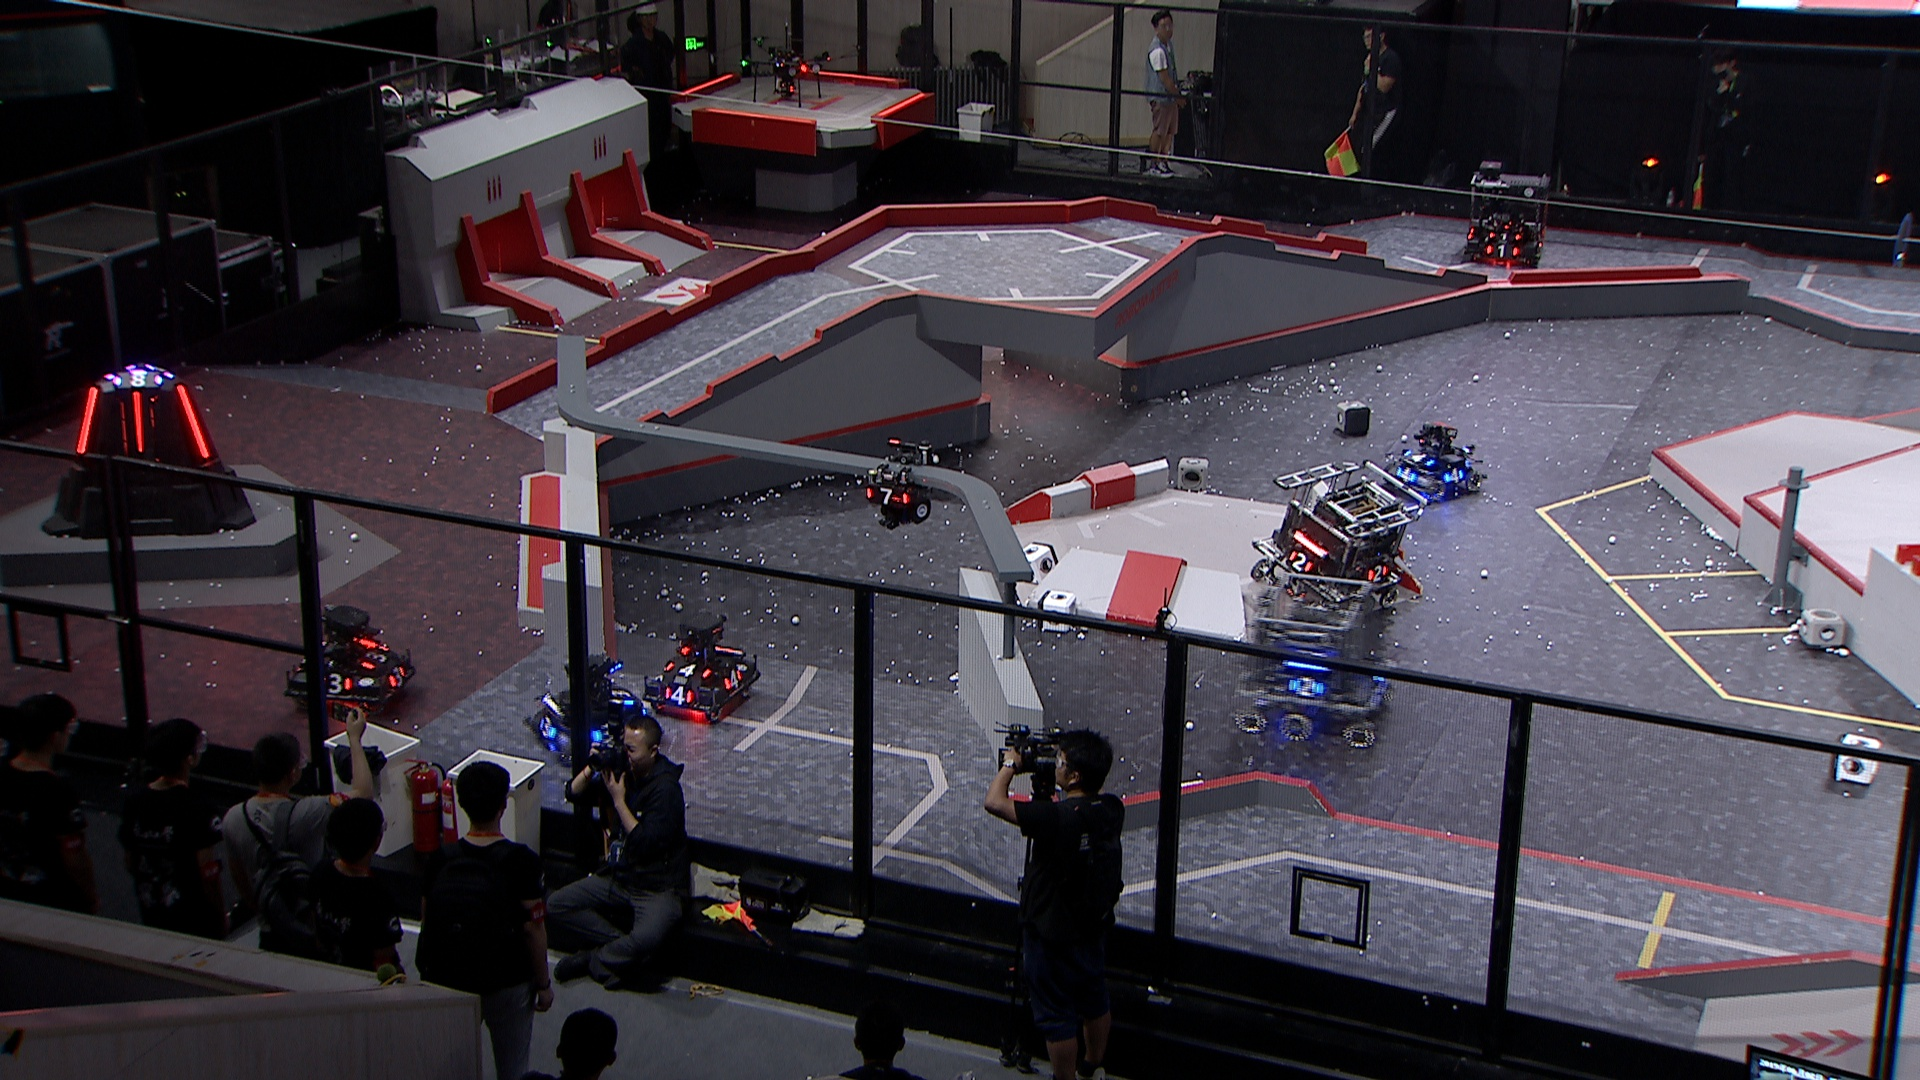armor: (174, 382, 212, 462), (76, 385, 98, 452), (661, 659, 712, 680), (129, 390, 145, 454), (865, 487, 913, 508), (357, 642, 392, 670), (1286, 675, 1325, 698), (323, 671, 356, 698), (1399, 448, 1437, 469), (1283, 549, 1315, 574), (589, 723, 618, 746), (719, 665, 745, 690), (662, 684, 695, 704), (609, 684, 638, 707), (1365, 562, 1393, 584), (1484, 243, 1520, 257), (538, 713, 558, 740), (1486, 229, 1523, 243), (1395, 465, 1419, 485), (386, 665, 406, 687), (1443, 467, 1466, 485)
base: (44, 361, 261, 538)
car: (1233, 568, 1395, 746), (1244, 462, 1425, 618), (282, 604, 415, 717), (522, 650, 650, 766), (640, 609, 764, 717), (1458, 160, 1553, 266), (1375, 422, 1486, 501)
ignore: (112, 372, 167, 392)
watcher: (860, 438, 939, 527)
